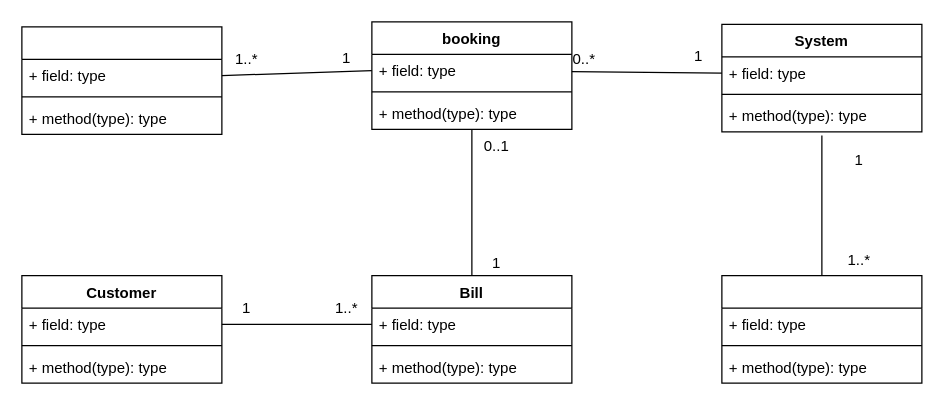
Some shapes in this 944 by 409 pixel diagram are drawn without their labels. Here are the shapes that lost their labels. From the top down, the box of each, then its label:
(21, 26, 222, 134): Room
(721, 274, 922, 383): staff
